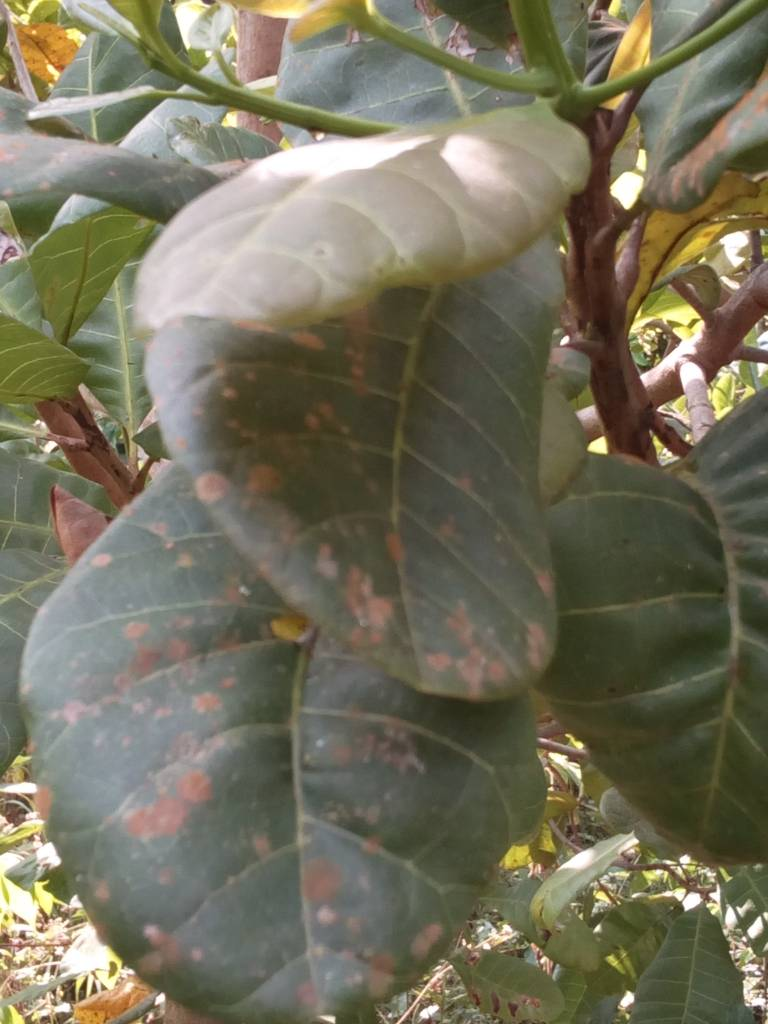Rouille: (1, 457, 532, 1024), (133, 232, 585, 691)
